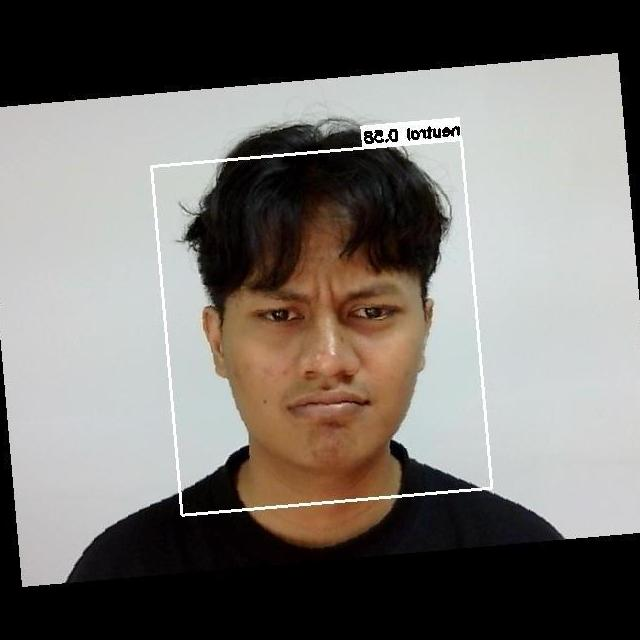Sad: (226, 260, 426, 456)
